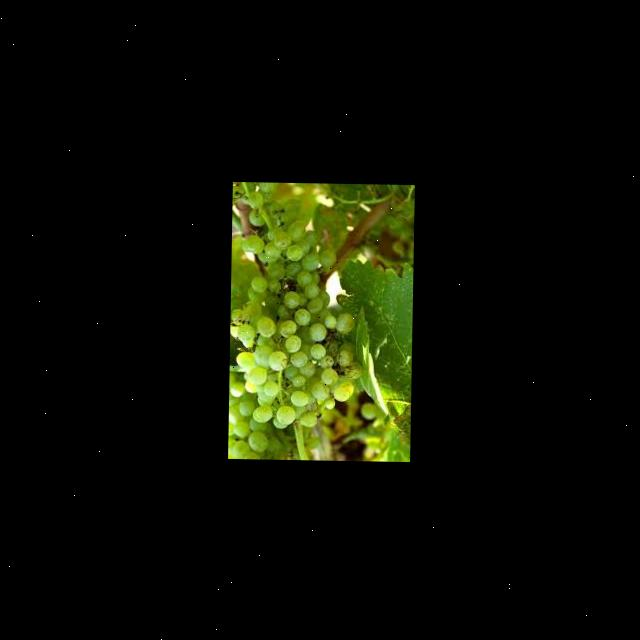grape: (228, 228, 362, 439)
